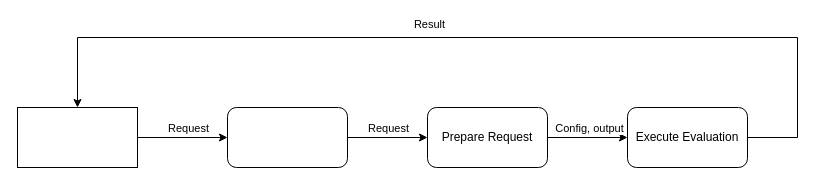
This 823x185 diagram has some shape labels left out. The shapes that lost their labels are listed below. From the top down, each one's box as (x1, y1, x2, y2) in pixels, then its label:
(16, 106, 138, 168): Client
(226, 106, 348, 168): Register Evaluation
